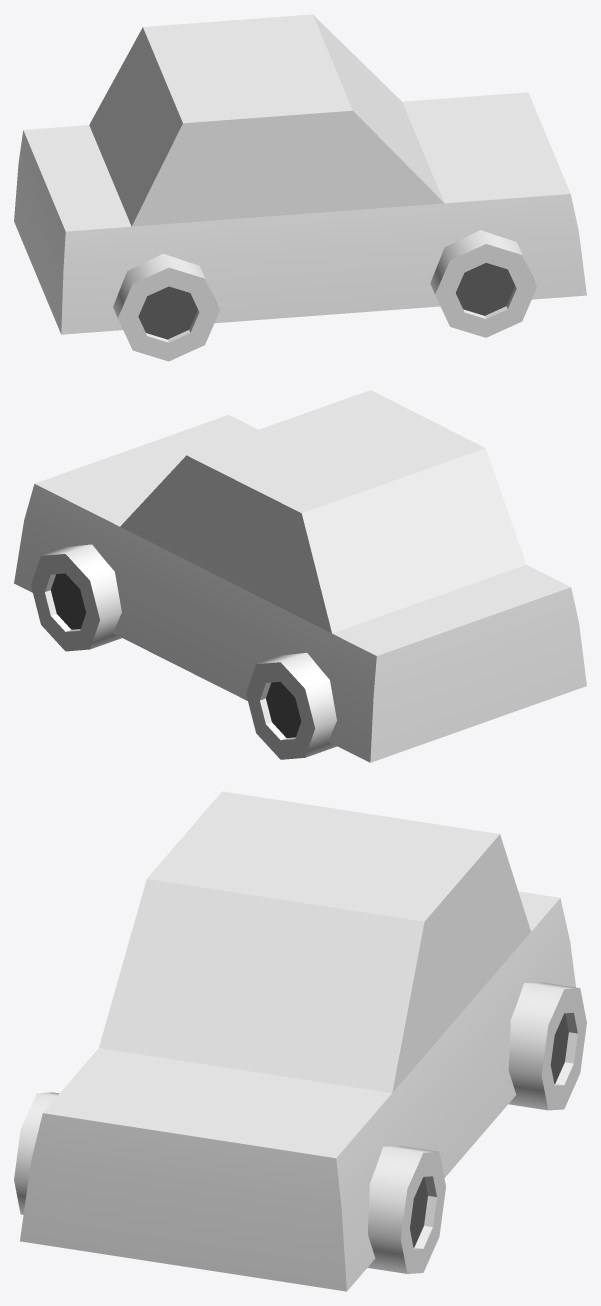
The model's file is voiture bleu.fbx.
3 views of the same model, one above another, from view 1: azimuth 30°, elevation 25°; view 2: azimuth 150°, elevation 25°; view 3: azimuth 270°, elevation 25° (orthographic). The views are drawn at different scales.
Parts seen in each view (by area): view 1: Voiture_REf004; view 2: Voiture_REf004; view 3: Voiture_REf004.
Boxes of the visible parts, x1,y1,x2,y2 form: Voiture_REf004: [14, 14, 586, 361]; Voiture_REf004: [14, 390, 586, 762]; Voiture_REf004: [14, 791, 586, 1291].
Bounding box in the file's own units: 93.37 × 37.72 × 70.37.
